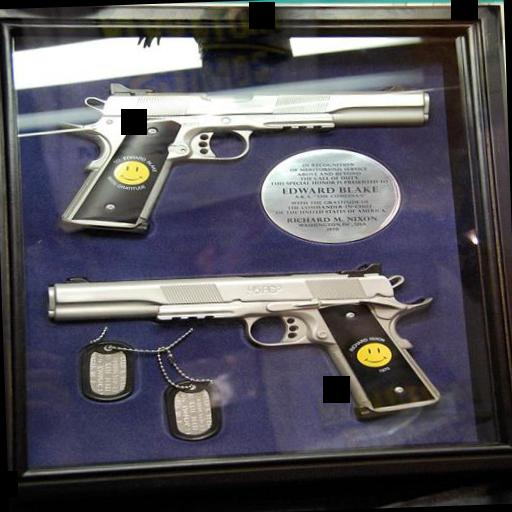Handgun: (34, 260, 448, 432), (37, 68, 435, 240)
